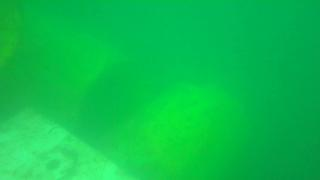pipe: (1, 1, 156, 137), (91, 78, 256, 179), (1, 1, 26, 67)
station: (1, 107, 138, 180)
